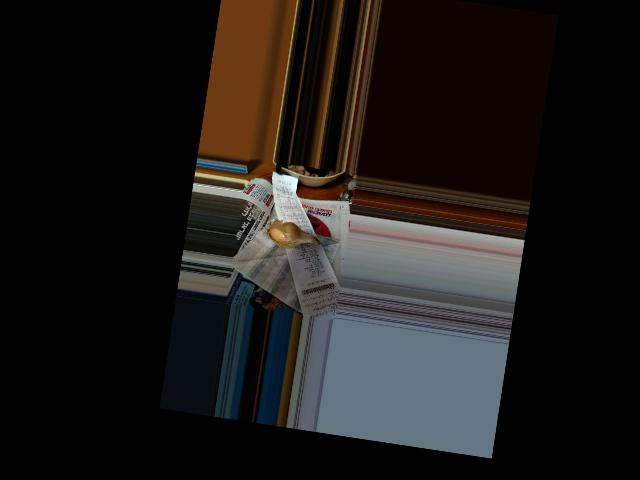onion: (266, 218, 312, 252)
